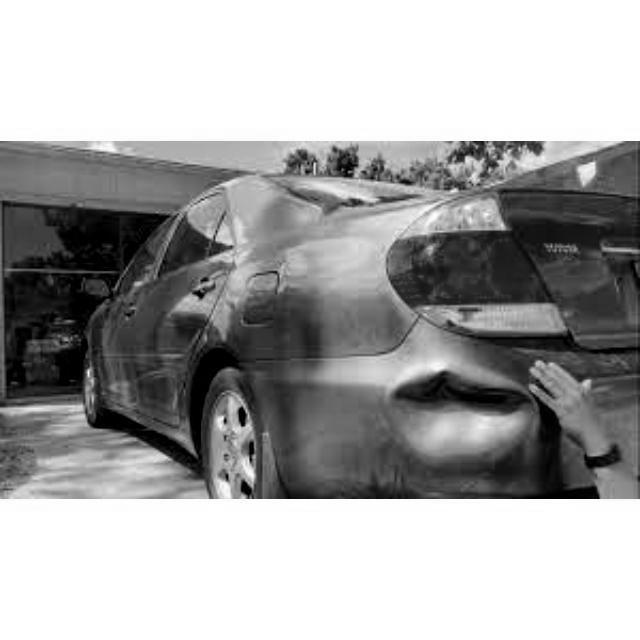rear-bumper-dent: (243, 329, 631, 497)
